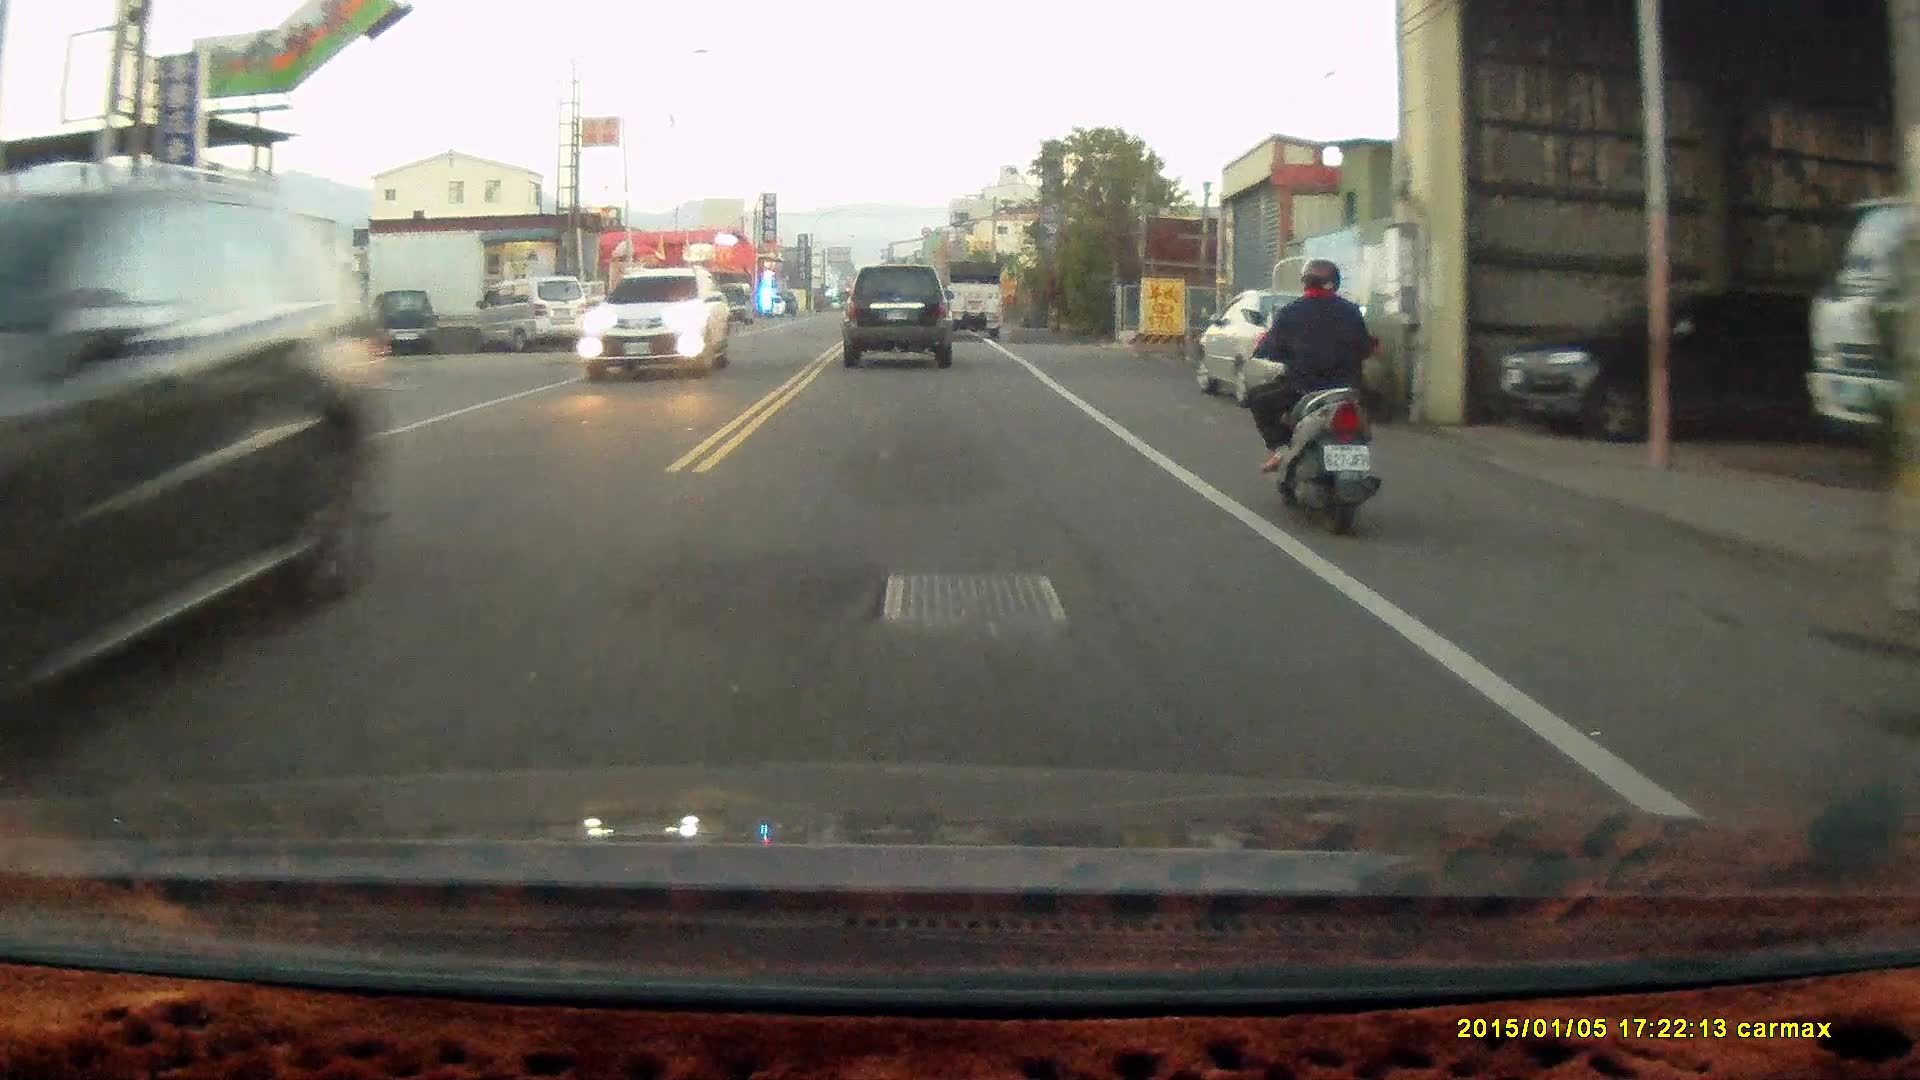rider: (1238, 256, 1382, 538)
vehicle: (1, 185, 391, 759), (1504, 293, 1835, 444), (1195, 280, 1397, 409), (578, 267, 735, 384), (844, 263, 956, 371), (478, 275, 587, 358), (937, 258, 1007, 341), (379, 290, 439, 358)
